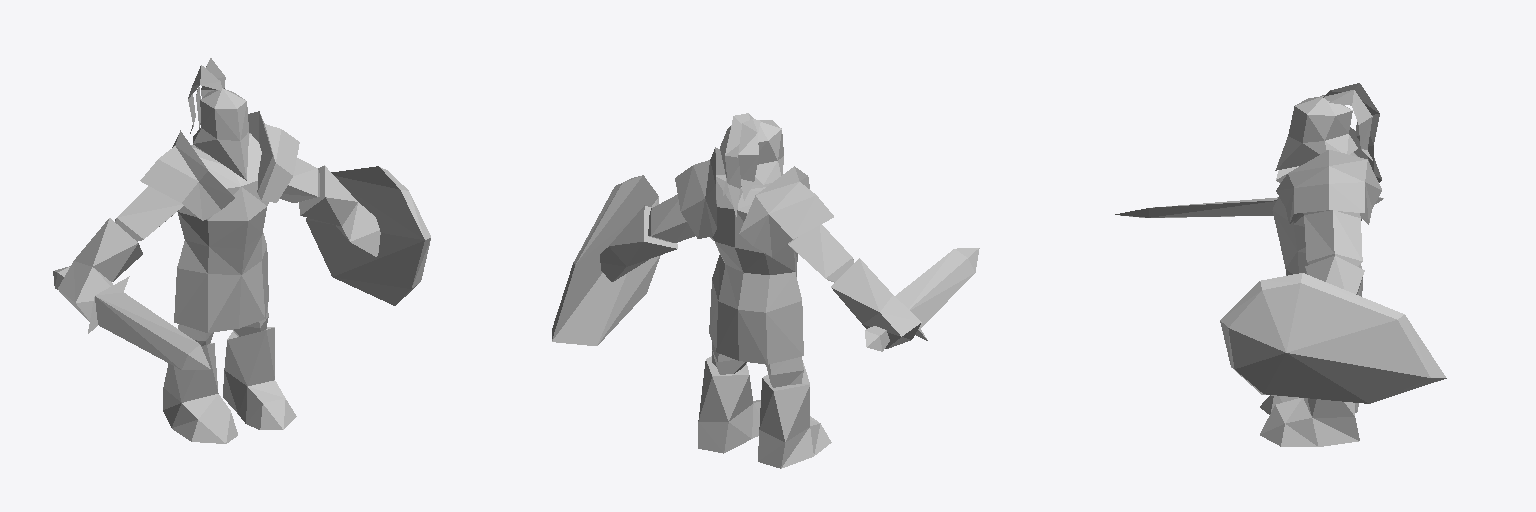
The model's file is Knight.obj.
3 views of the same model, side by side, from view 1: azimuth 30°, elevation 25°; view 2: azimuth 150°, elevation 25°; view 3: azimuth 270°, elevation 25° (orthographic).
Visible parts, largest first — view 1: WK_HeavyIntantry; view 2: WK_HeavyIntantry; view 3: WK_HeavyIntantry.
Part boxes in pixels (x1,y1,x2,y2): WK_HeavyIntantry: (53, 58, 430, 443); WK_HeavyIntantry: (552, 113, 979, 468); WK_HeavyIntantry: (1115, 83, 1446, 446).
Size of the model in its own units: 1.66 by 1.61 by 1.43.